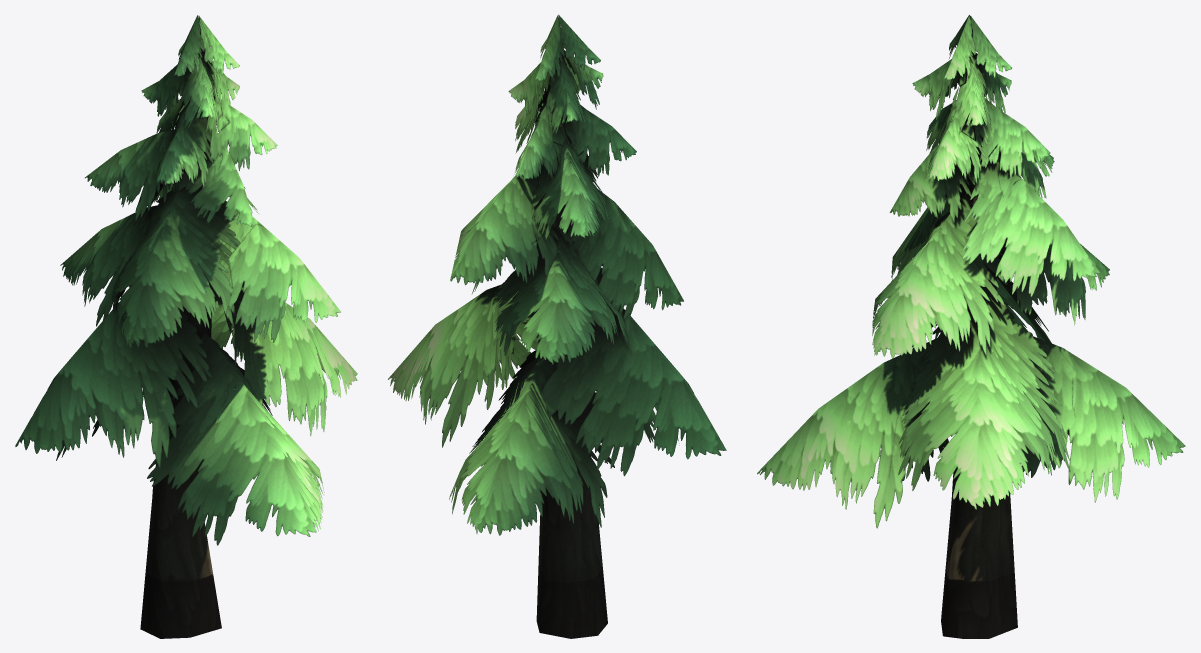
Rendered from Mod_WM_Tree_Pine_05.fbx.
The picture shows the model from 3 angles, left to right: view 1: azimuth 30°, elevation 25°; view 2: azimuth 150°, elevation 25°; view 3: azimuth 270°, elevation 25°; orthographic projection. The views are drawn at different scales.
Visible parts, largest first — view 1: polySurface478; view 2: polySurface478; view 3: polySurface478.
Boxes of the visible parts, bbox=[...] form: polySurface478: bbox=[15, 15, 357, 638]; polySurface478: bbox=[388, 14, 726, 638]; polySurface478: bbox=[757, 15, 1185, 638].
Size of the model in its own units: 77.76 by 132 by 83.01.
1 material, 1 textured.
